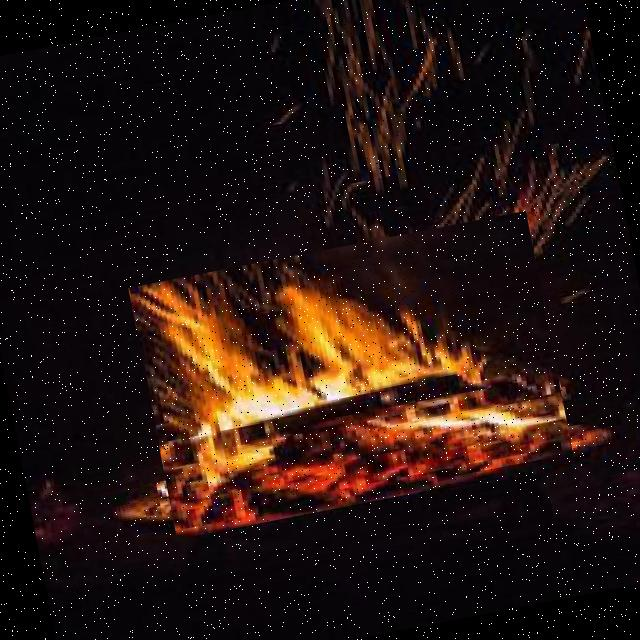fire: (128, 210, 574, 540)
